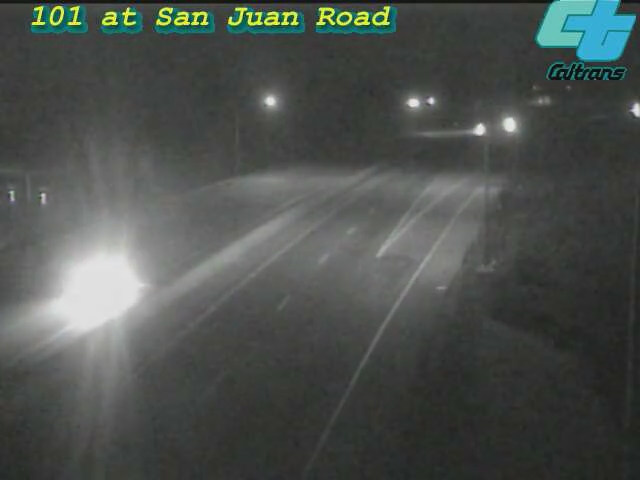vehicle: (61, 243, 141, 323), (454, 105, 504, 155), (484, 100, 534, 150), (612, 85, 640, 135)
